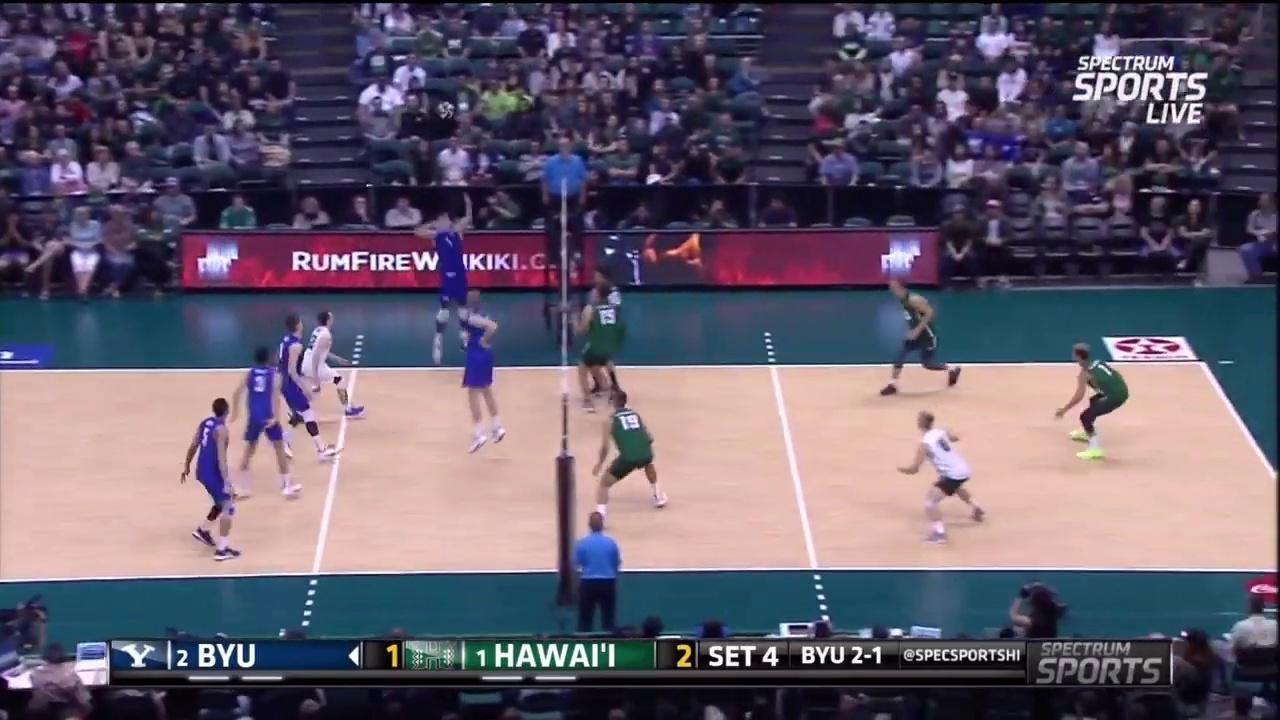player: (900, 416, 989, 542), (234, 340, 300, 501), (273, 311, 340, 463), (180, 402, 244, 557), (592, 393, 671, 517), (881, 275, 961, 396), (1056, 344, 1132, 458), (424, 206, 477, 357), (449, 293, 500, 445), (314, 312, 365, 417), (589, 265, 630, 394), (581, 282, 620, 411)
refree: (569, 507, 624, 633), (541, 132, 590, 254)
